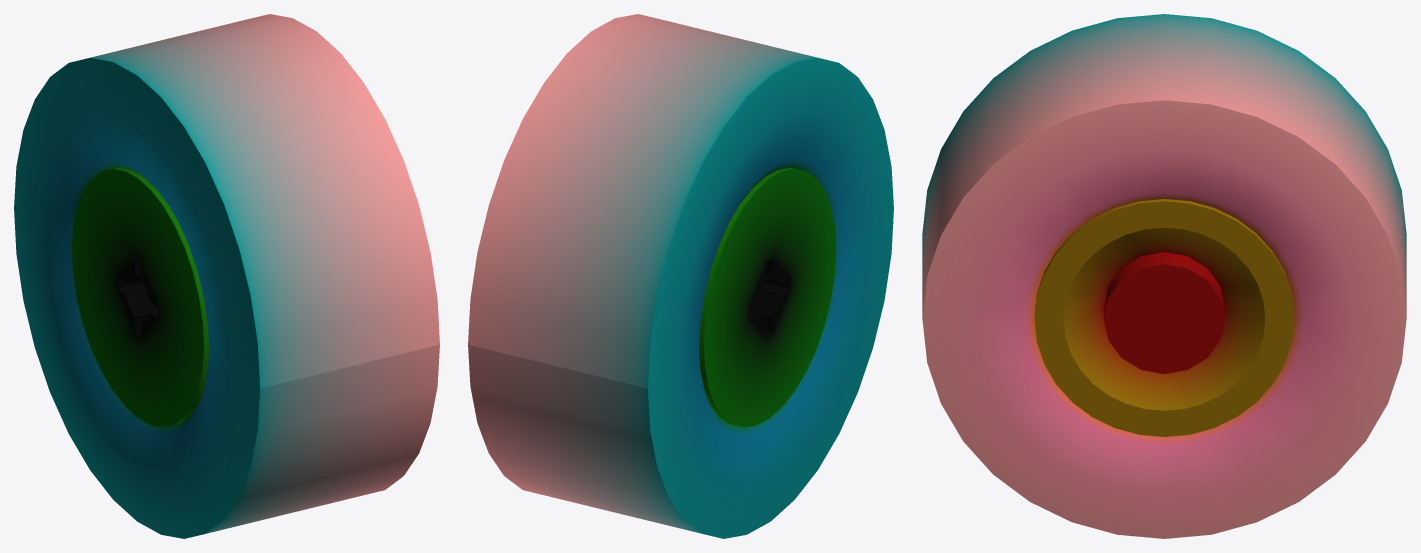
File: SM_OffroadWheel_3x4s.gltf
The picture shows the model from 3 angles, left to right: view 1: azimuth 30°, elevation 25°; view 2: azimuth 150°, elevation 25°; view 3: azimuth 270°, elevation 25°; orthographic projection.
Parts seen in each view (by area): view 1: SM_OffroadWheel_3x4s; view 2: SM_OffroadWheel_3x4s; view 3: SM_OffroadWheel_3x4s.
Part boxes in pixels (x1,y1,x2,y2): SM_OffroadWheel_3x4s: [14, 14, 439, 538]; SM_OffroadWheel_3x4s: [468, 14, 893, 538]; SM_OffroadWheel_3x4s: [922, 14, 1406, 538].
Size of the model in its own units: 0.3719 by 0.8375 by 0.8375.
